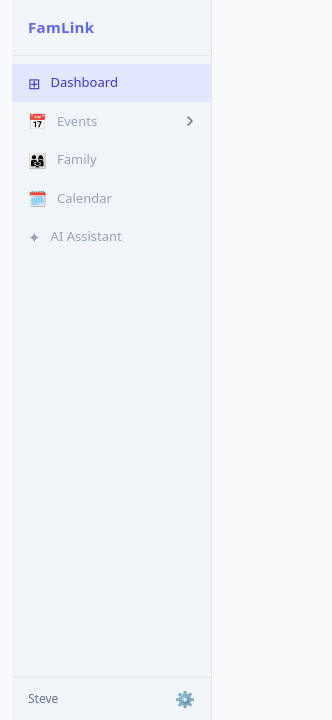
Scenario: Sidebar › clicking an expanded toggle collapses the section
Click the button "📅 Events" at x=112, y=121, box left=12, top=102, right=211, bottom=140
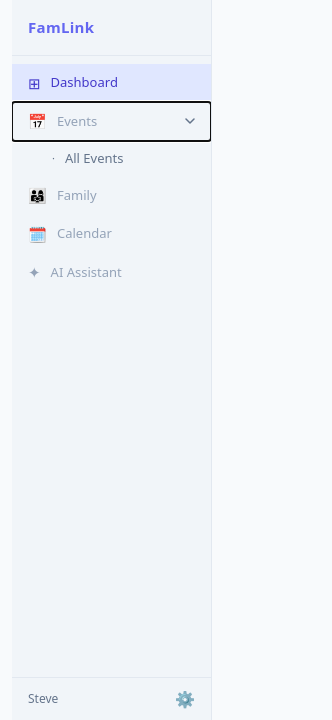
Click the button "📅 Events" at x=112, y=121, box left=12, top=102, right=211, bottom=140
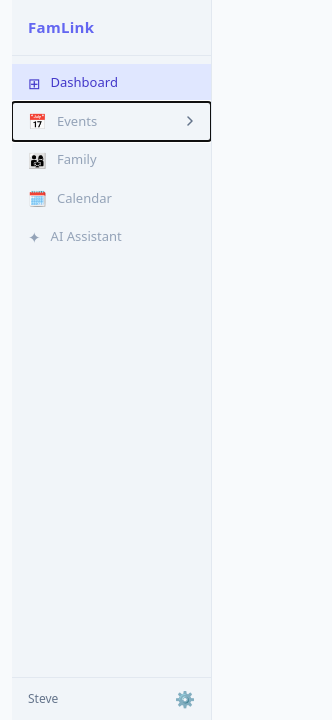
expect the button "📅 Events" is collapsed: met, box left=12, top=102, right=211, bottom=140
